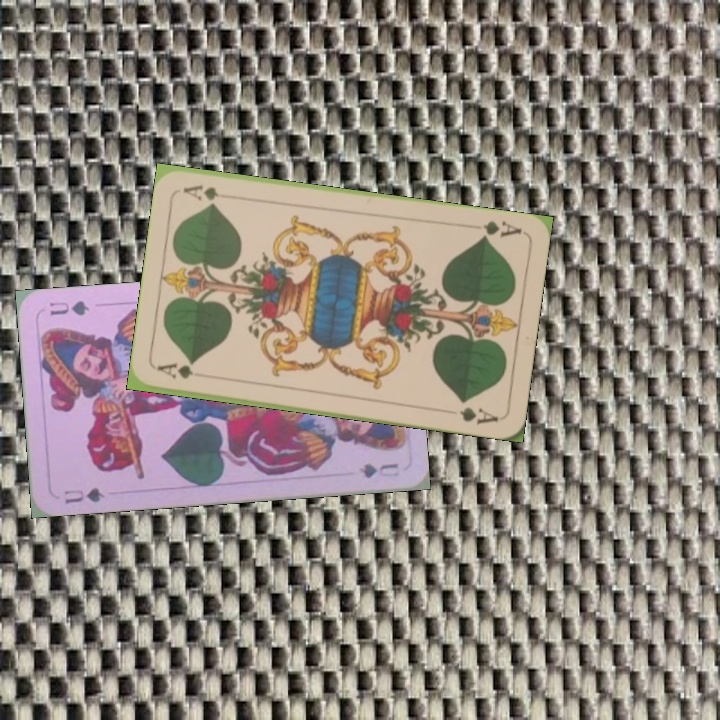GA: (154, 359, 213, 382), (477, 217, 524, 242)
GU: (60, 484, 107, 506)
